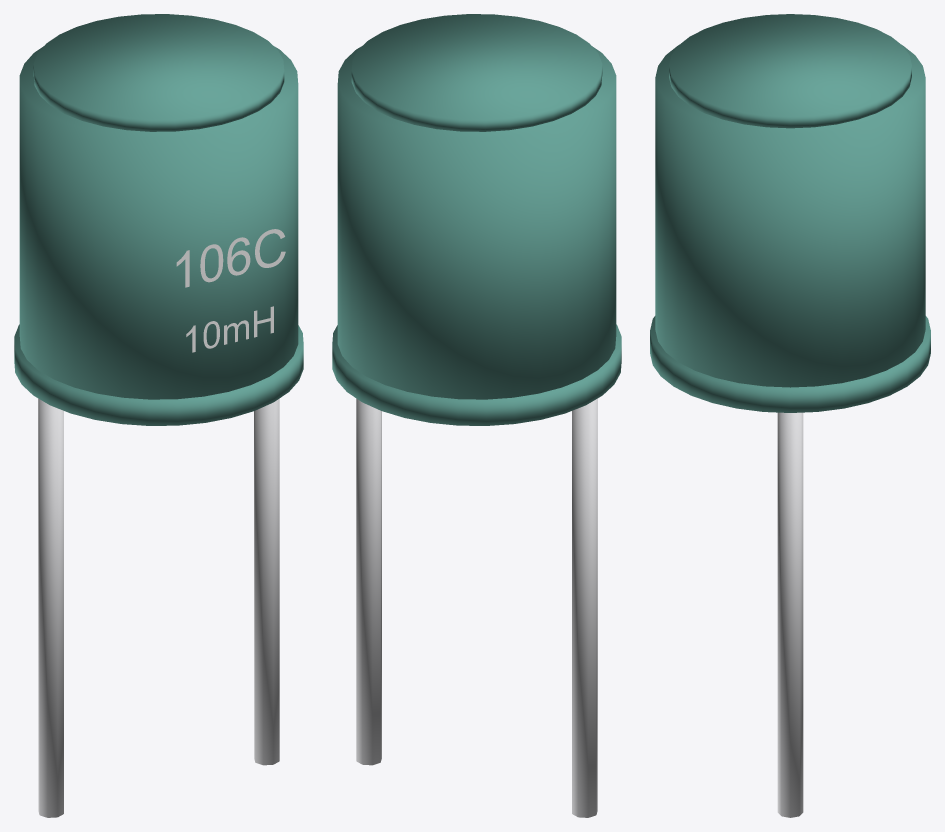
Rendered from inductor-10mh.glb.
The picture shows the model from 3 angles, left to right: view 1: azimuth 30°, elevation 25°; view 2: azimuth 150°, elevation 25°; view 3: azimuth 270°, elevation 25°; orthographic projection. The views are drawn at different scales.
Visible parts, largest first — view 1: Body.018, Top.003, Lead_A.015, Lead_B.015, Base_Flange, Marking.002, MarkingVal; view 2: Body.018, Top.003, Lead_A.015, Lead_B.015, Base_Flange; view 3: Body.018, Top.003, Lead_B.015, Base_Flange.
Boxes of the visible parts, x1,y1,x2,y2 form: Body.018: (19, 46, 298, 399); Top.003: (33, 14, 284, 131); Lead_A.015: (38, 398, 63, 817); Lead_B.015: (254, 398, 279, 765); Base_Flange: (14, 324, 303, 425); Marking.002: (176, 229, 285, 287); MarkingVal: (186, 306, 273, 352); Body.018: (337, 46, 616, 399); Top.003: (351, 14, 602, 131); Lead_A.015: (572, 398, 597, 817); Lead_B.015: (356, 398, 381, 765); Base_Flange: (332, 324, 621, 425); Body.018: (655, 45, 925, 387); Top.003: (669, 14, 911, 128); Lead_B.015: (777, 412, 803, 817); Base_Flange: (650, 316, 930, 412).
Bounding box in the file's own units: 0.00874 × 0.0239 × 0.00874.
